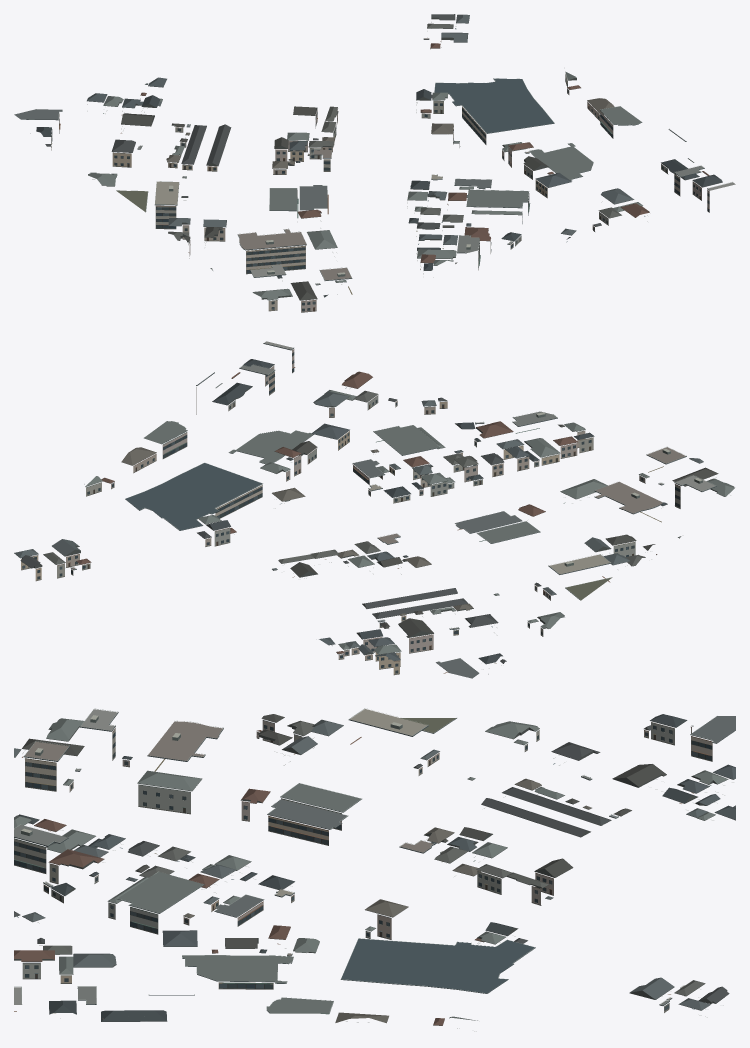
The picture shows the model from 3 angles, top to bottom: view 1: azimuth 30°, elevation 25°; view 2: azimuth 150°, elevation 25°; view 3: azimuth 270°, elevation 25°; orthographic projection. The views are drawn at different scales.
Visible parts, largest first — view 1: r4-c1; view 2: r4-c1; view 3: r4-c1.
Part boxes in pixels (left/top/right/bottom): r4-c1: left=14, top=14, right=735, bottom=312; r4-c1: left=14, top=341, right=734, bottom=678; r4-c1: left=14, top=708, right=735, bottom=1031.
Size of the model in its own units: 250 by 18.69 by 250.
